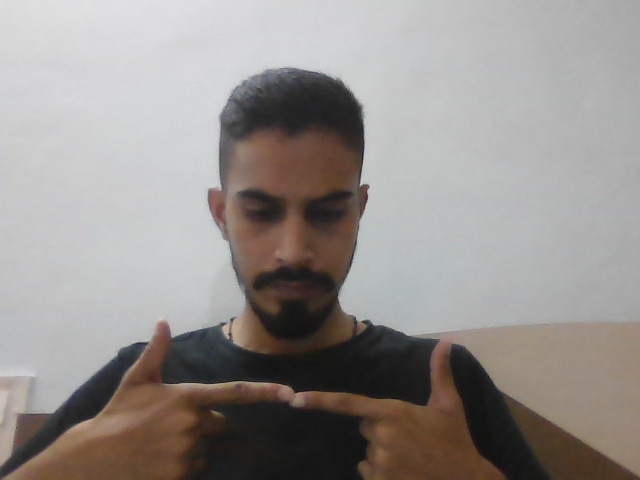Hurt: (96, 316, 499, 480)
